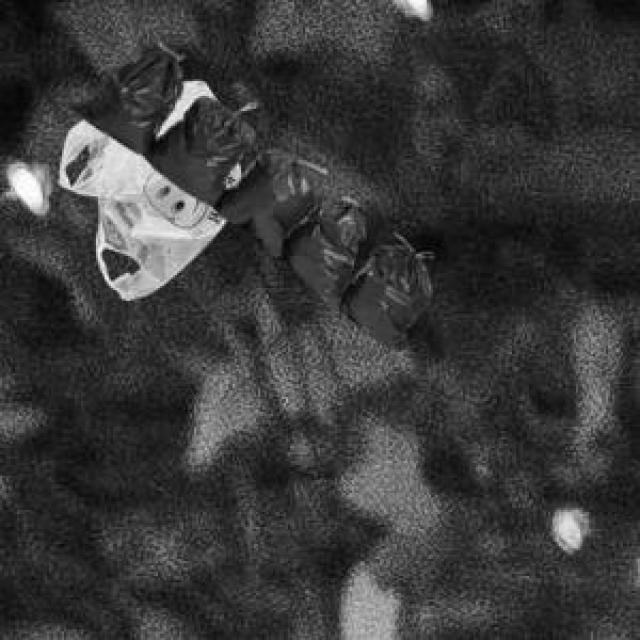miscellaneous trash: (64, 47, 427, 346)
